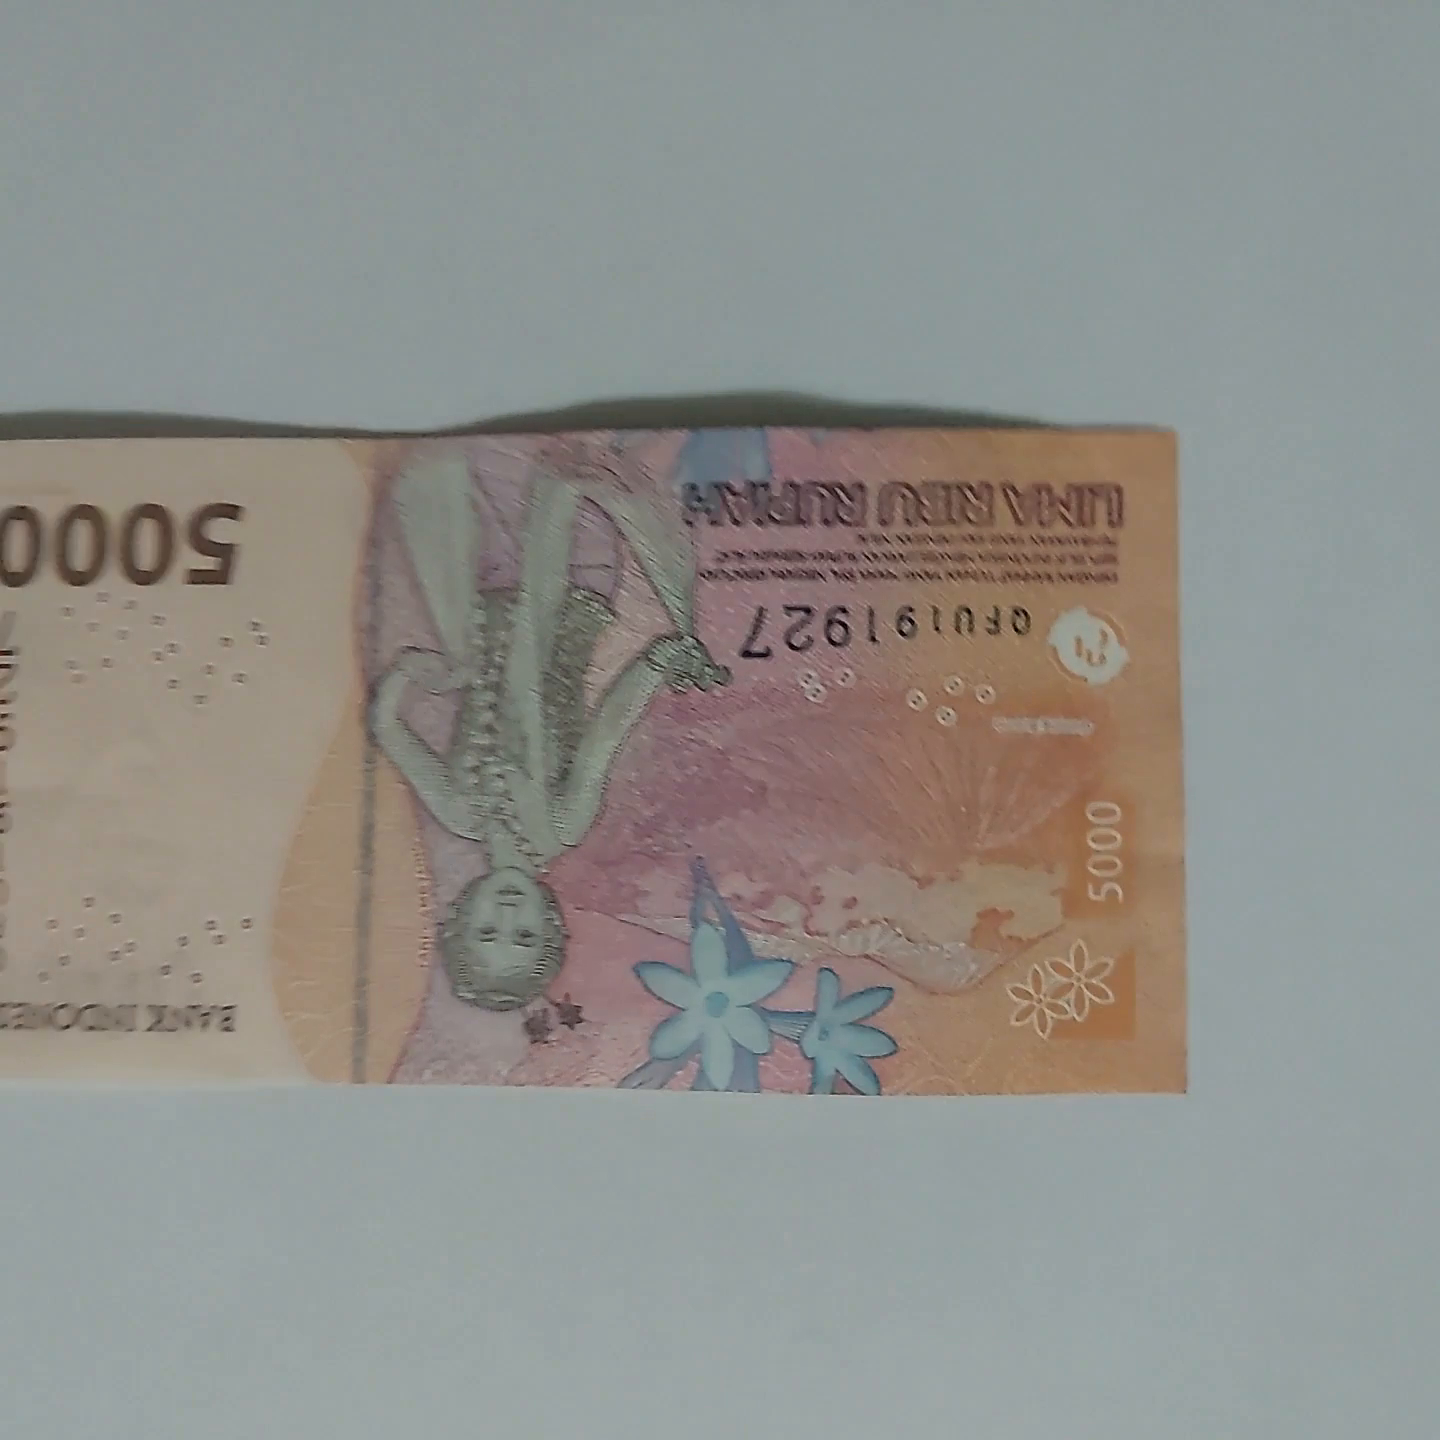5k: (0, 427, 1211, 1113)
